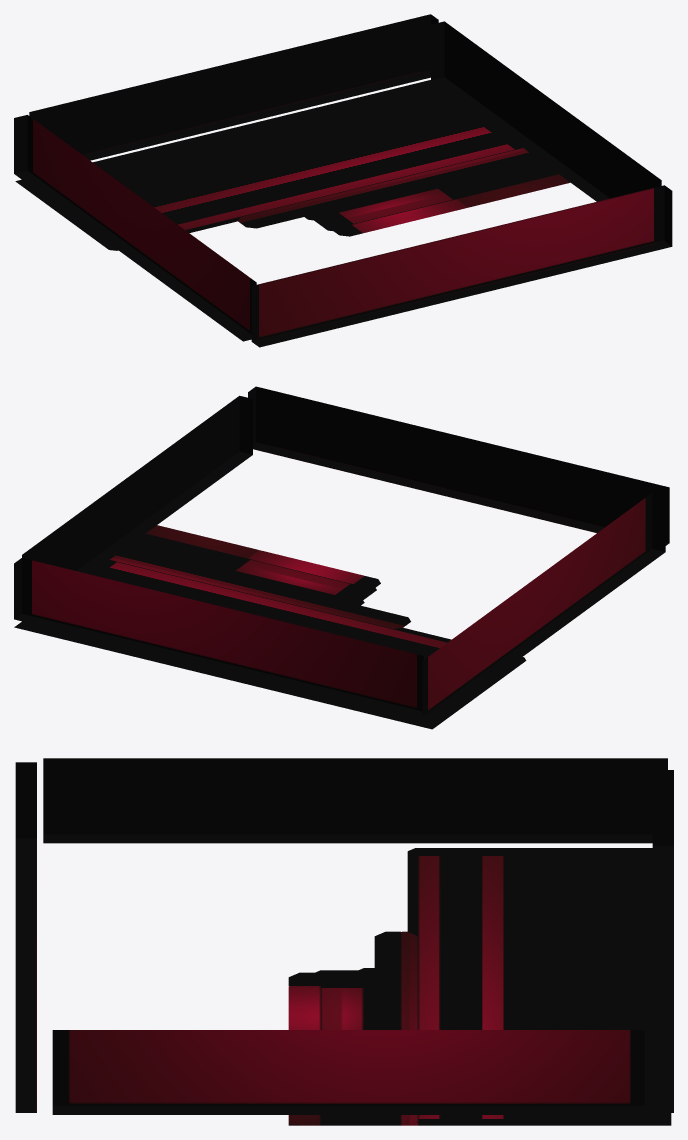
The model's file is test_level.obj.
The picture shows the model from 3 angles, top to bottom: view 1: azimuth 30°, elevation 25°; view 2: azimuth 150°, elevation 25°; view 3: azimuth 270°, elevation 25°; orthographic projection. The views are drawn at different scales.
Parts seen in each view (by area): view 1: Cube.000_Cube.000; view 2: Cube.000_Cube.000; view 3: Cube.000_Cube.000.
Part boxes in pixels (x1,y1,x2,y2): Cube.000_Cube.000: (14,14,672,347); Cube.000_Cube.000: (14,386,669,729); Cube.000_Cube.000: (15,758,673,1125).
Size of the model in its own units: 15.83 by 2.32 by 15.73.
Materials: 1 (1 with a texture image).
